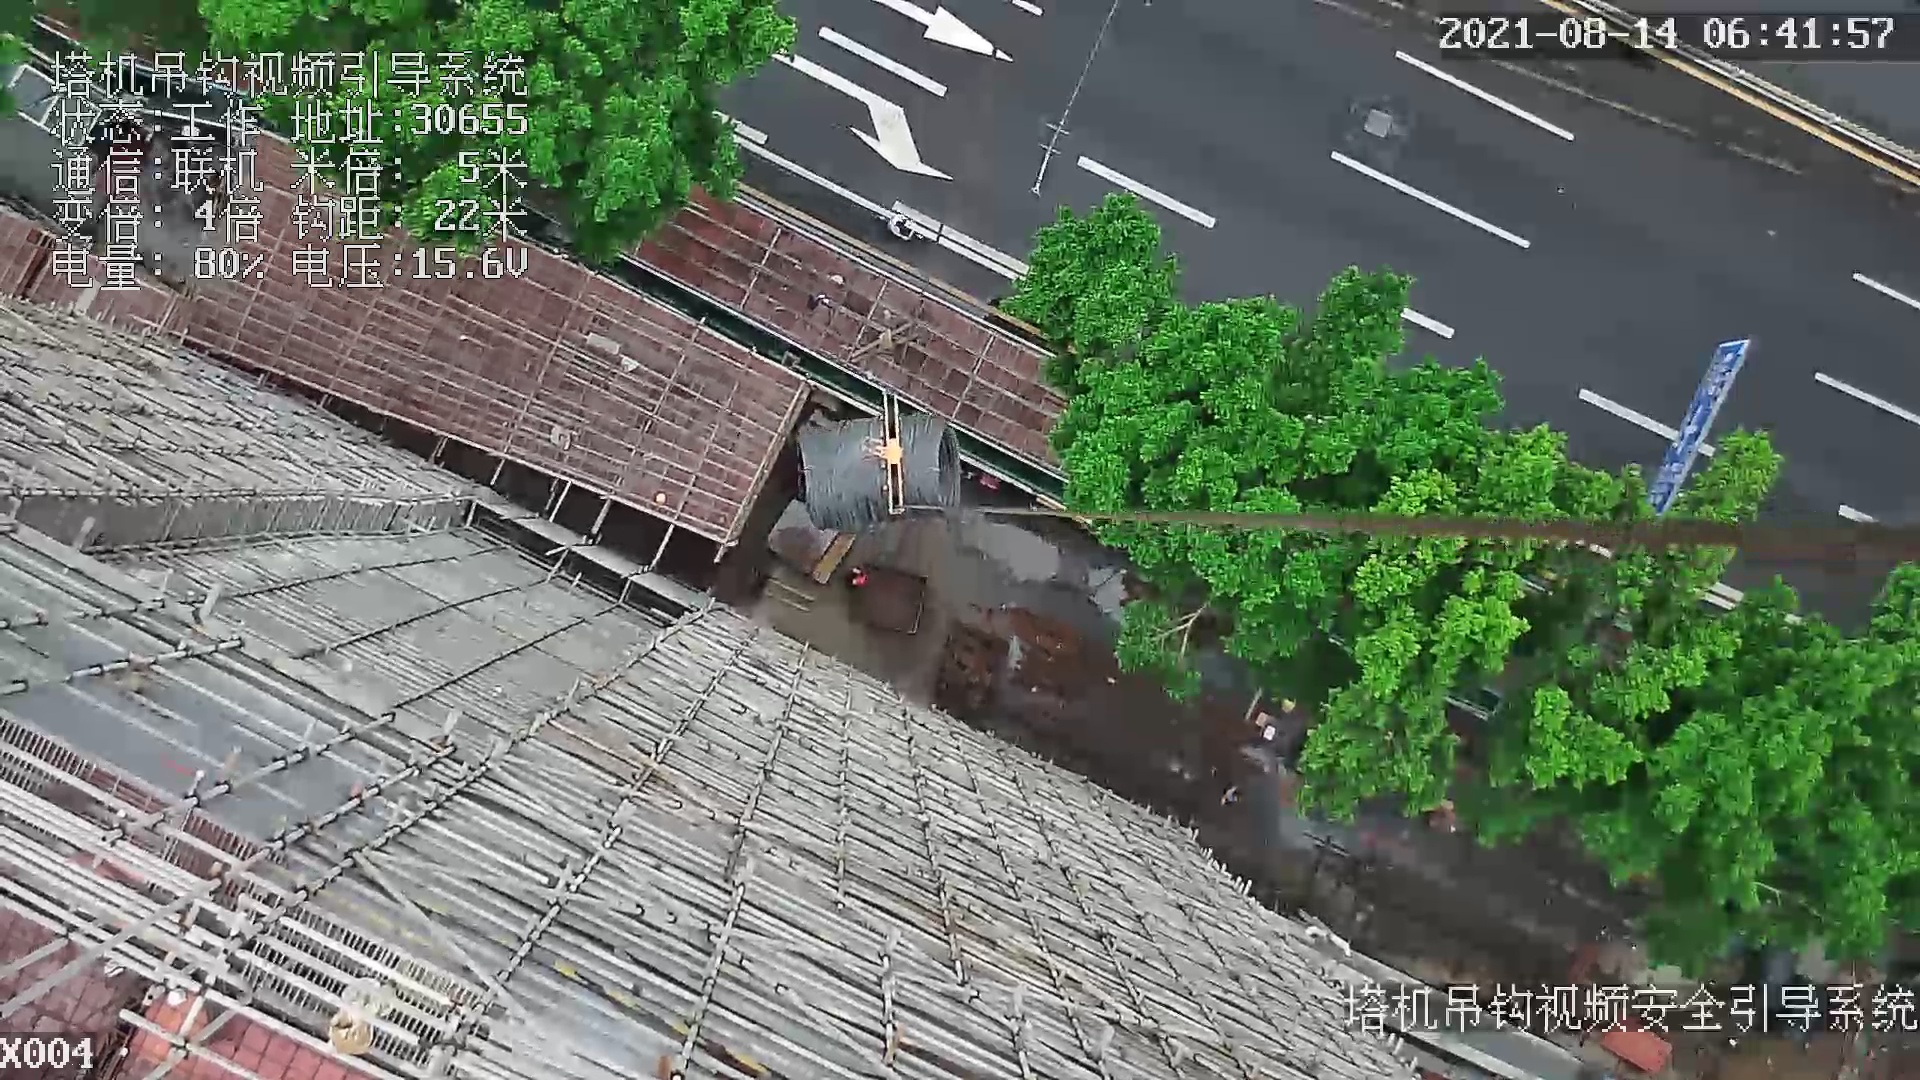hook: (859, 385, 910, 517)
person: (875, 209, 925, 245), (844, 564, 868, 590), (1219, 781, 1240, 807)
